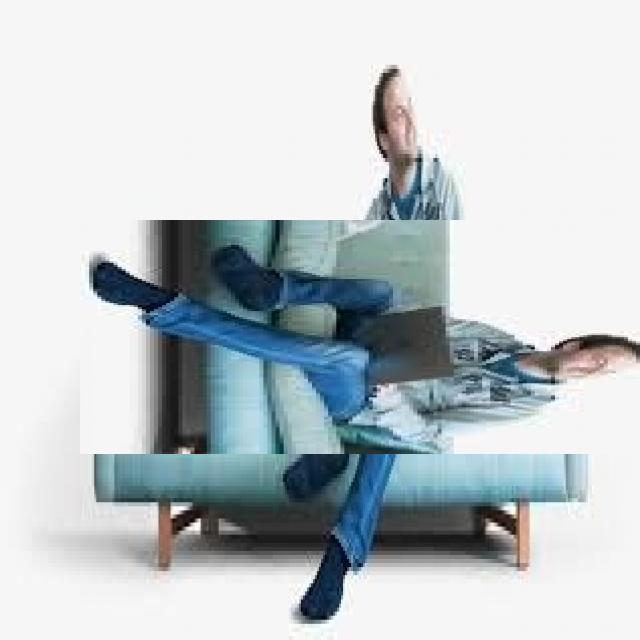NotFall: (93, 221, 640, 479)
